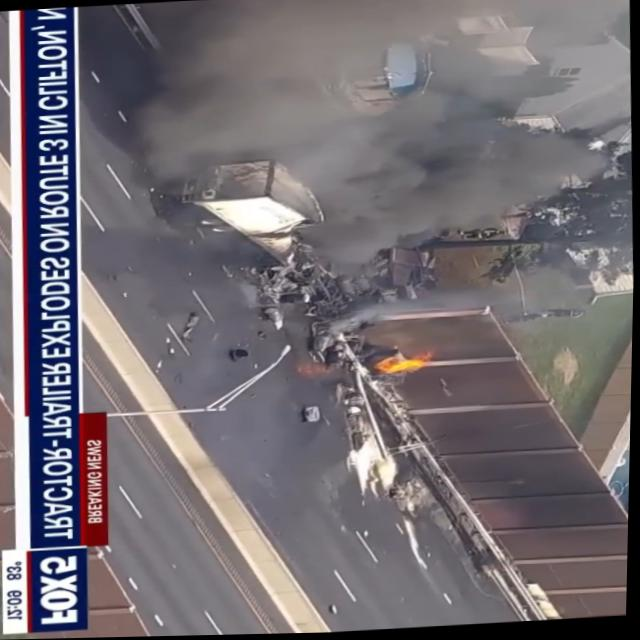Fire: (370, 351, 442, 382)
